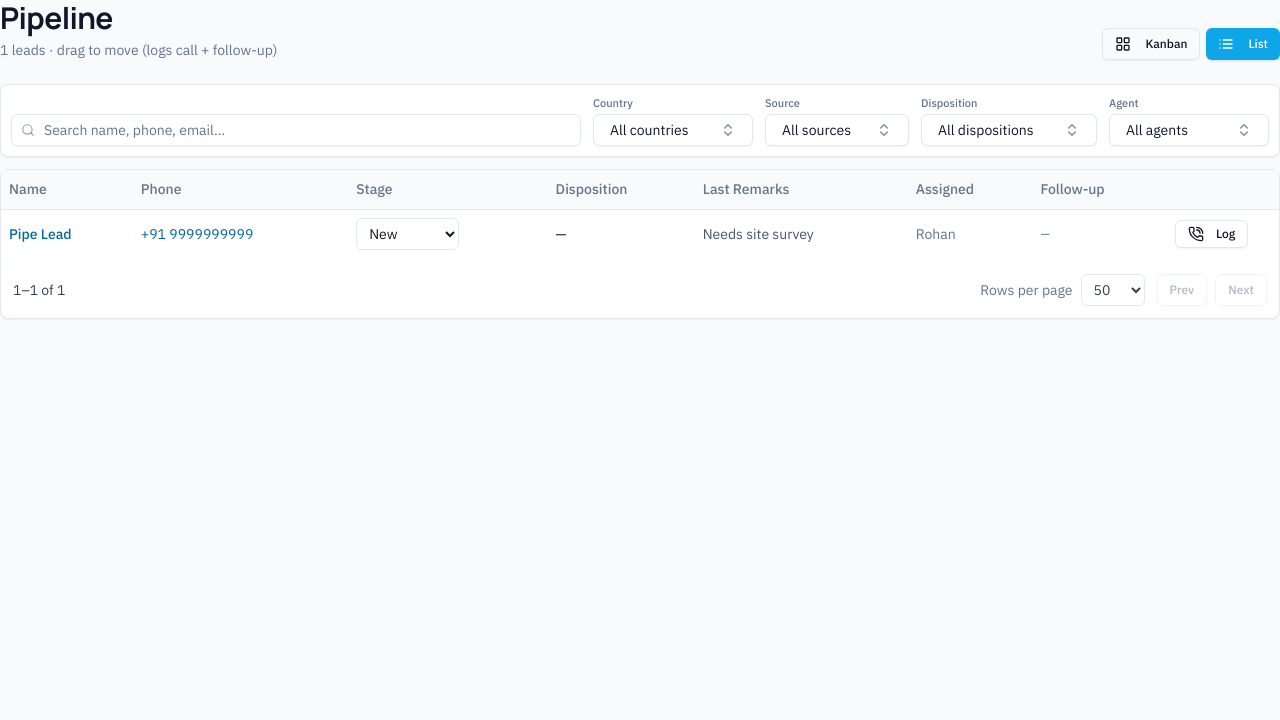
Test: Pipeline workbench › shows last remarks in list view and log dialog
This screenshot has width=1280, height=720.
Expected: the element with test id "pipeline-last-remarks-lead-1" reads "Needs site survey", [703,225,814,243]
Click the button with test id "list-log-call-lead-1".
click(1212, 234)  # box [1175,220,1248,248]
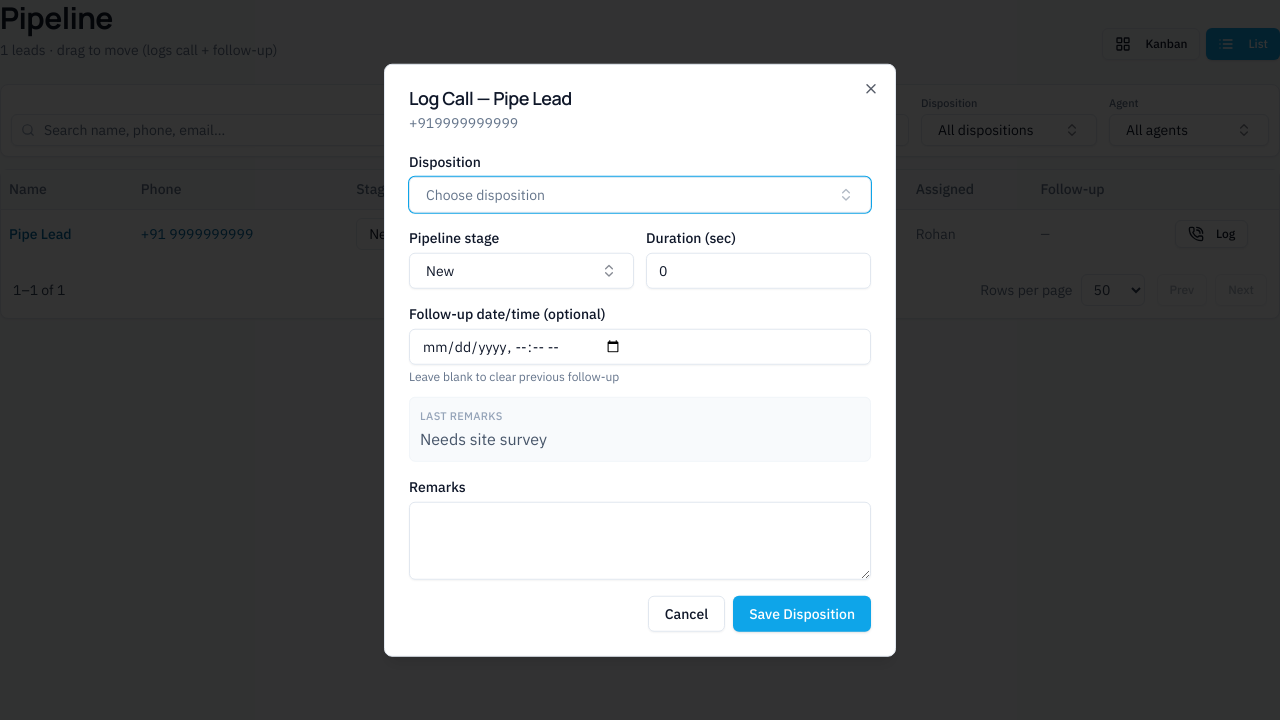
Result: the element with test id "log-call-last-remarks" shows "Needs site survey" at [420,428,547,448]
